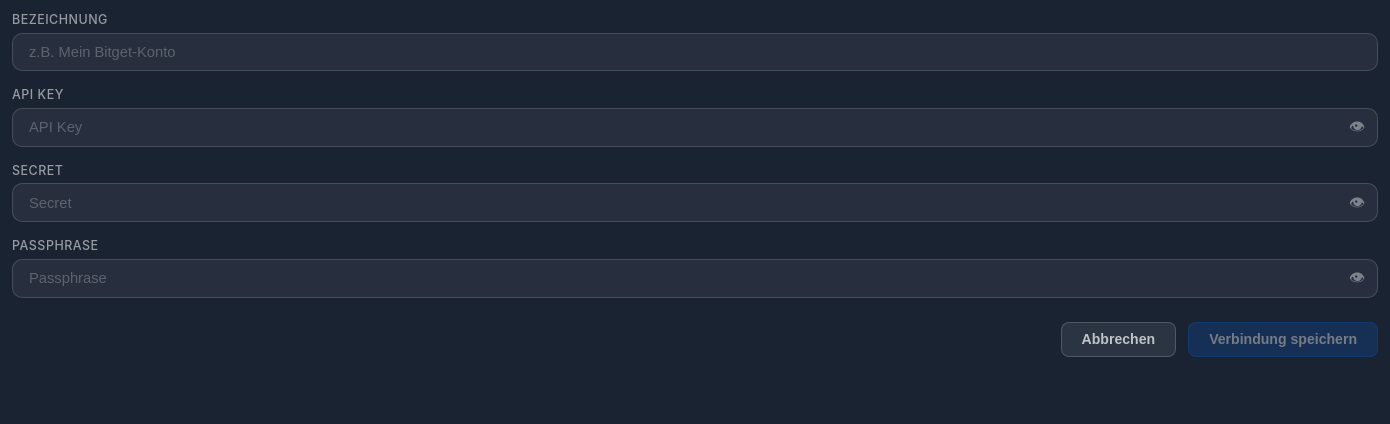
Test: CredentialForm › shows test result after save
Type "Mein Konto" into the field labelled "Bezeichnung". click: (695, 52)
box: [12, 33, 1378, 71]
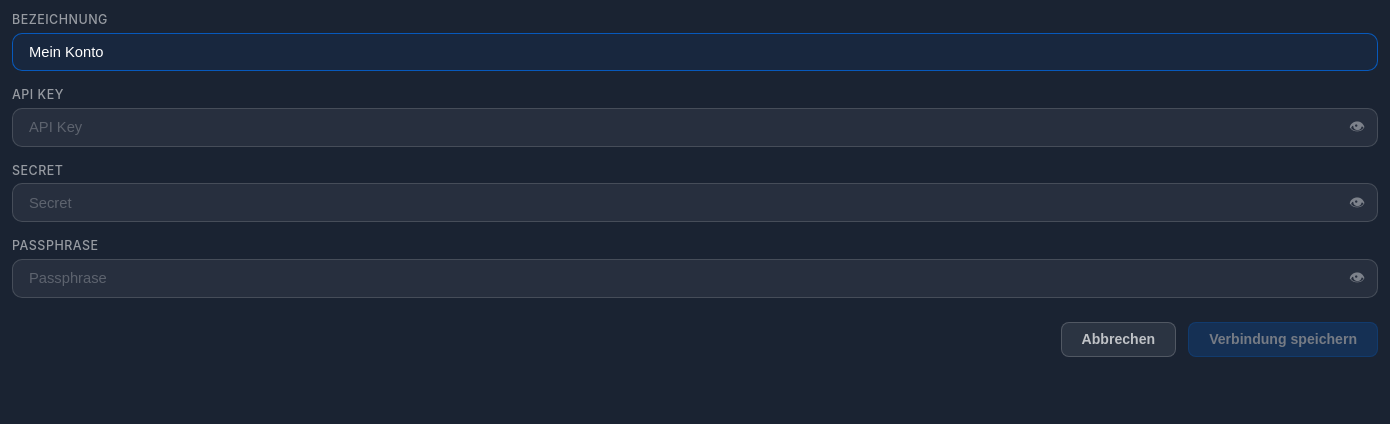
Type "testapikey" into the password field labelled "API Key". click: (695, 127)
box: [12, 108, 1378, 147]
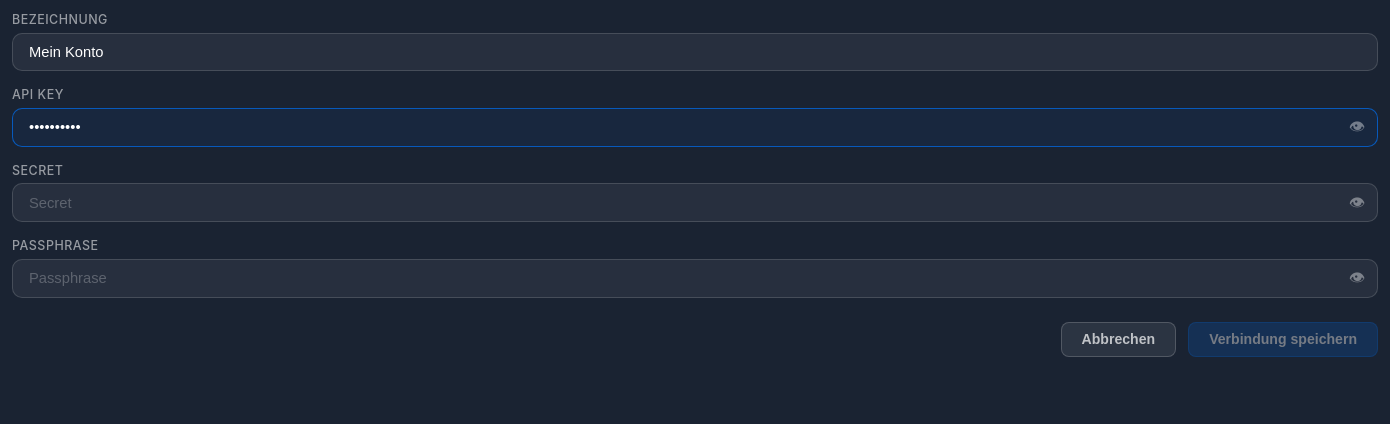
Type "testsecret" into the password field labelled "Secret". click: (695, 203)
box: [12, 183, 1378, 222]
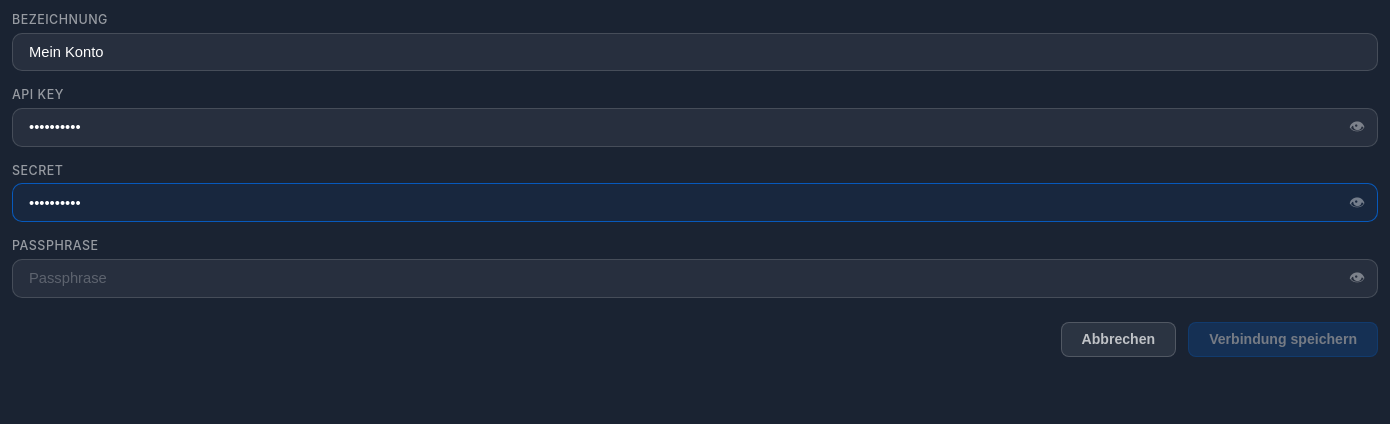
Type "testpass" into the password field labelled "Passphrase". click: (695, 278)
box: [12, 259, 1378, 298]
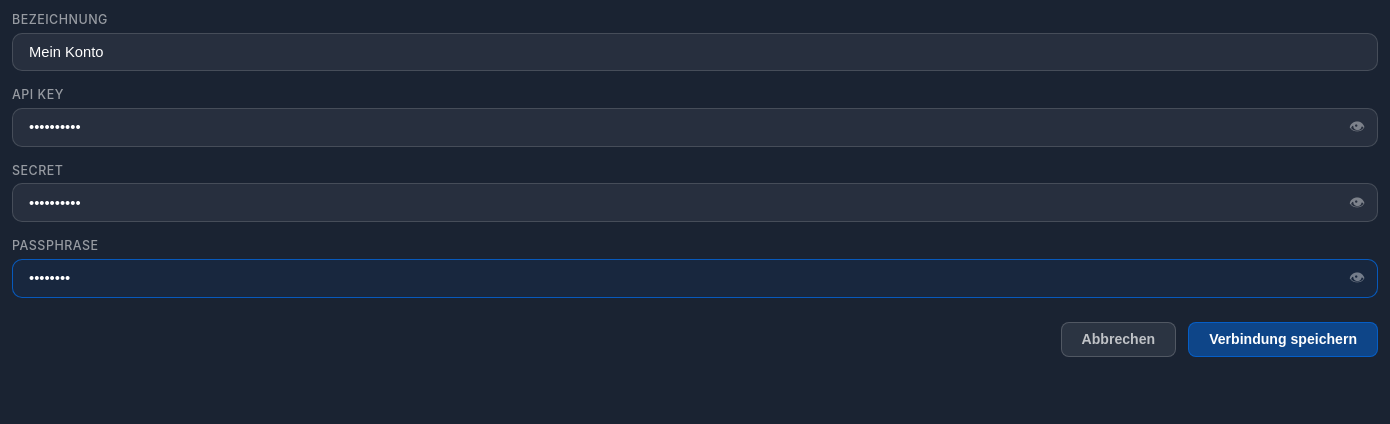
Click the button "Verbindung speichern". click: (1283, 339)
box: [1188, 322, 1378, 357]
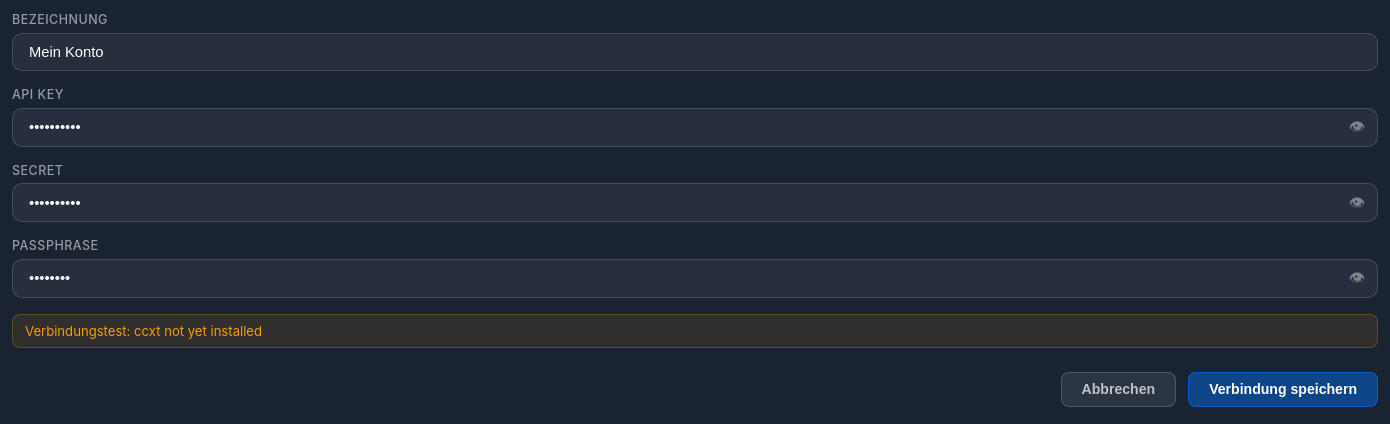
Check: the message "Verbindungstest: ccxt not yet installed" is shown, box [12, 314, 1378, 348]
